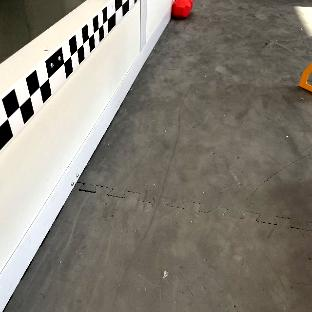V5_RED: (172, 0, 193, 18)
